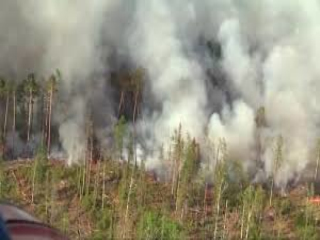fire: (307, 195, 319, 204)
smoke: (128, 17, 210, 172), (211, 26, 266, 177), (268, 43, 320, 183), (44, 94, 99, 173)
